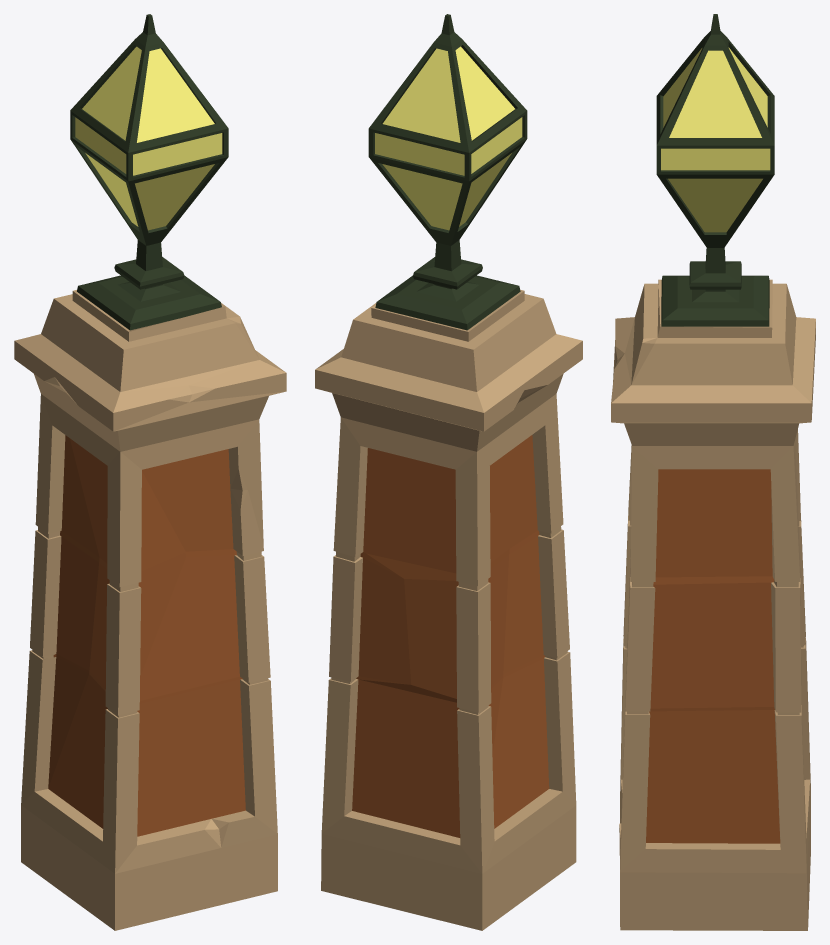
File: Underground_TopPillar.fbx
3 views of the same model, side by side, from view 1: azimuth 30°, elevation 25°; view 2: azimuth 150°, elevation 25°; view 3: azimuth 270°, elevation 25° (orthographic).
Parts seen in each view (by area): view 1: Pillar, Light; view 2: Pillar, Light; view 3: Pillar, Light.
Boxes of the visible parts, left/top/right/bottom form: Pillar: left=14, top=14, right=286, bottom=930; Light: left=75, top=46, right=222, bottom=230; Pillar: left=315, top=14, right=582, bottom=930; Light: left=375, top=46, right=522, bottom=230; Pillar: left=611, top=14, right=815, bottom=930; Light: left=661, top=47, right=770, bottom=232.
Bounding box in the file's own units: 0.6812 × 3.28 × 0.6957.
